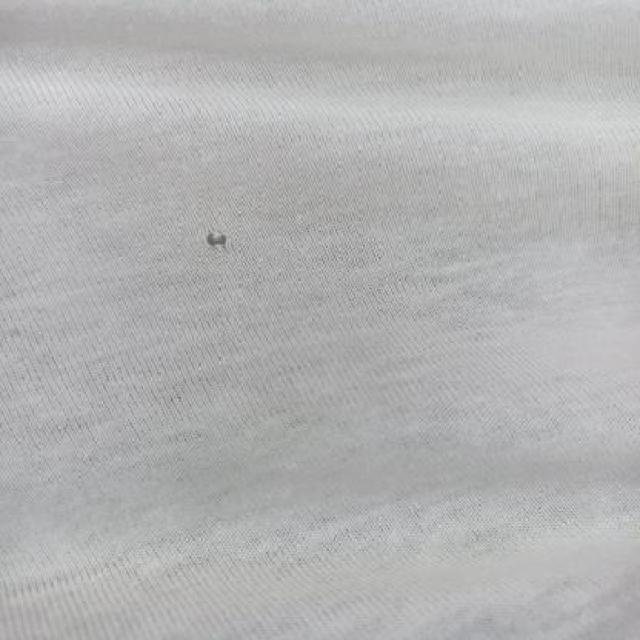seam: (173, 200, 267, 274)
